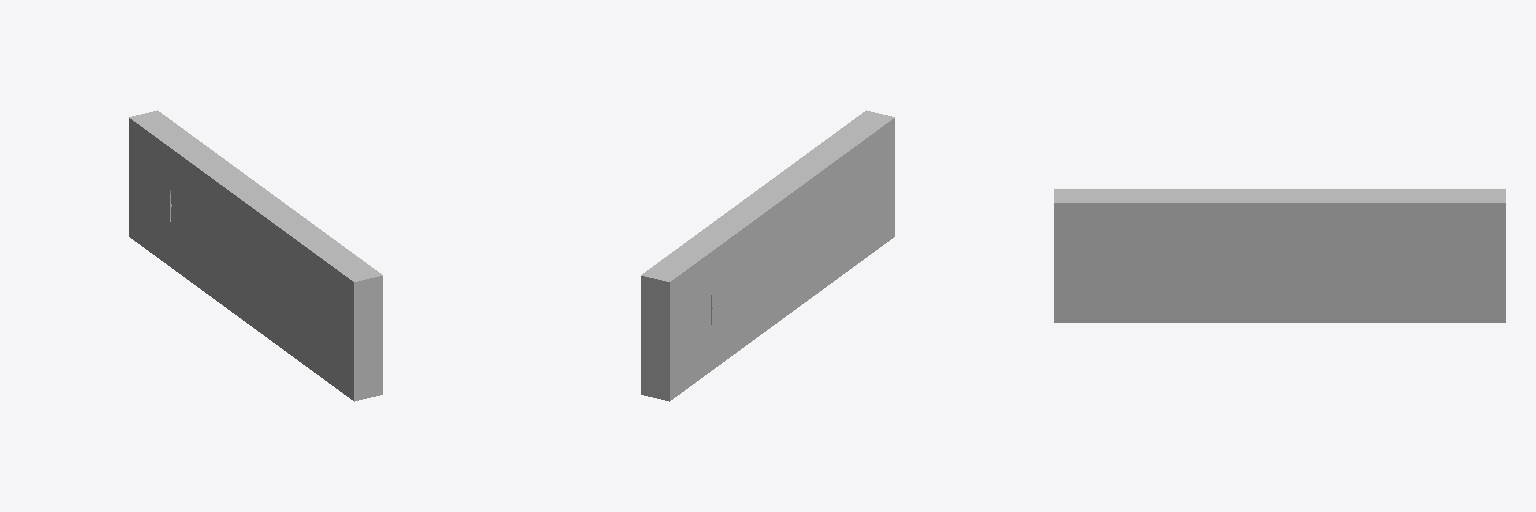
The model's file is Appliance plug.obj.
The picture shows the model from 3 angles: view 1: azimuth 30°, elevation 25°; view 2: azimuth 150°, elevation 25°; view 3: azimuth 270°, elevation 25°; orthographic projection.
Visible parts, largest first — view 1: Box005, Box001, Box004; view 2: Box005, Box001, Box004; view 3: Box005, Box001, Cylinder001.
Boxes of the visible parts, x1,y1,x2,y2 form: Box005: [129, 110, 382, 401]; Box001: [165, 147, 227, 303]; Box004: [169, 162, 215, 281]; Box005: [641, 110, 894, 401]; Box001: [705, 213, 768, 371]; Box004: [709, 238, 760, 361]; Box005: [1054, 189, 1505, 322]; Box001: [1307, 207, 1433, 319]; Cylinder001: [1315, 212, 1425, 317].
Bounding box in the file's own units: 532 × 2094 × 7177.